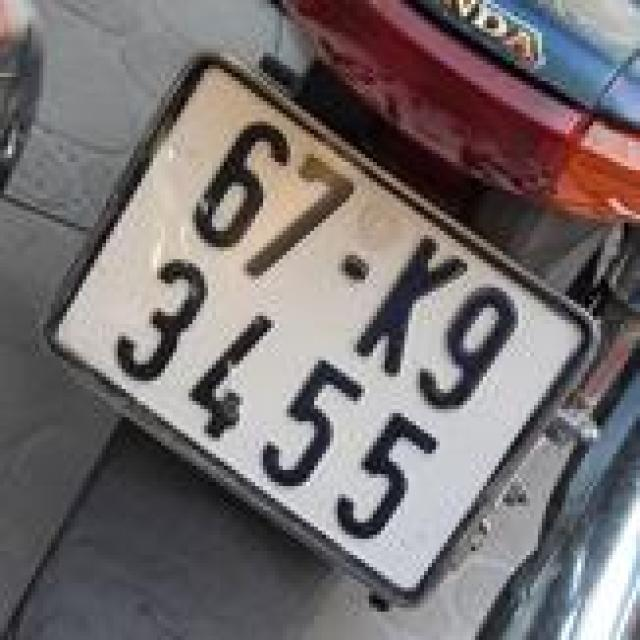3: (104, 247, 231, 394)
4: (177, 298, 297, 451)
5: (322, 394, 455, 556), (250, 342, 372, 503)
6: (181, 105, 302, 263)
7: (227, 133, 368, 300)
9: (405, 269, 534, 427)
K: (341, 219, 484, 392)
